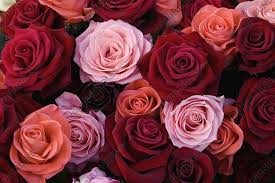lale: (0, 23, 73, 98), (74, 19, 152, 82), (4, 107, 72, 179), (157, 92, 229, 151), (57, 94, 114, 164), (146, 34, 216, 91), (110, 112, 173, 175), (188, 3, 252, 63), (237, 79, 275, 155), (232, 14, 275, 77), (113, 77, 165, 120), (165, 145, 217, 183), (8, 0, 61, 33)
